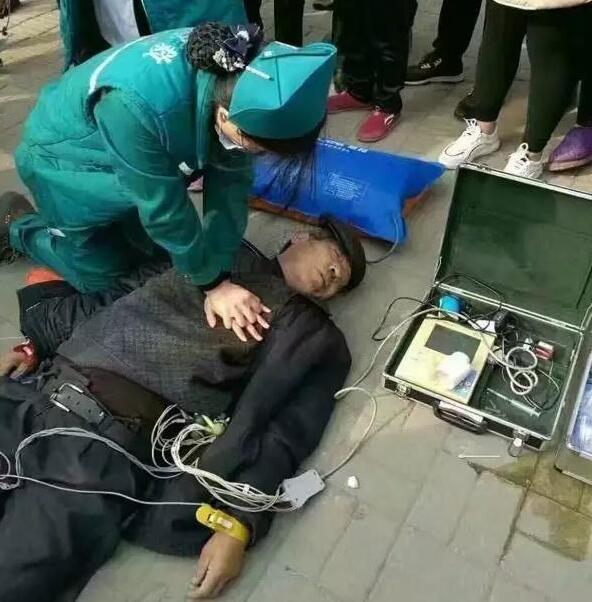bending: (1, 37, 330, 285)
down: (3, 204, 365, 602)
